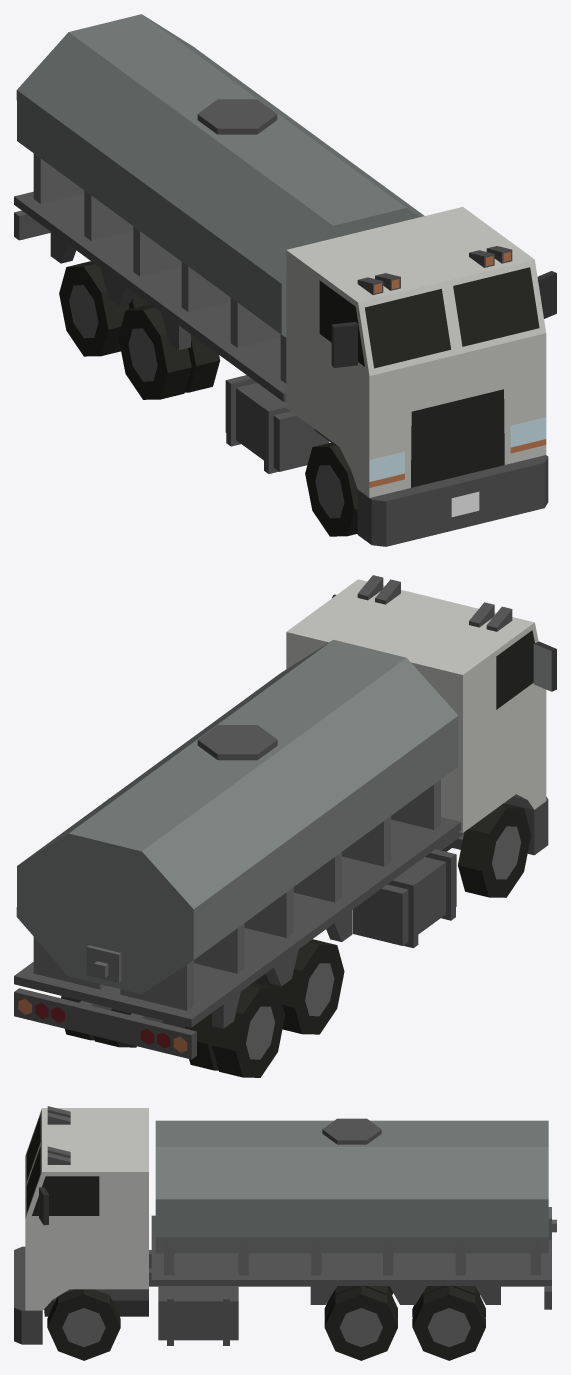
Rendered from Veh_Truck_03_Tank_White.obj.
3 renders of one model, top to bottom at view 1: azimuth 30°, elevation 25°; view 2: azimuth 150°, elevation 25°; view 3: azimuth 270°, elevation 25°, orthographic. The views are drawn at different scales.
Size of the model in its own units: 1.68 by 1.94 by 4.78.
